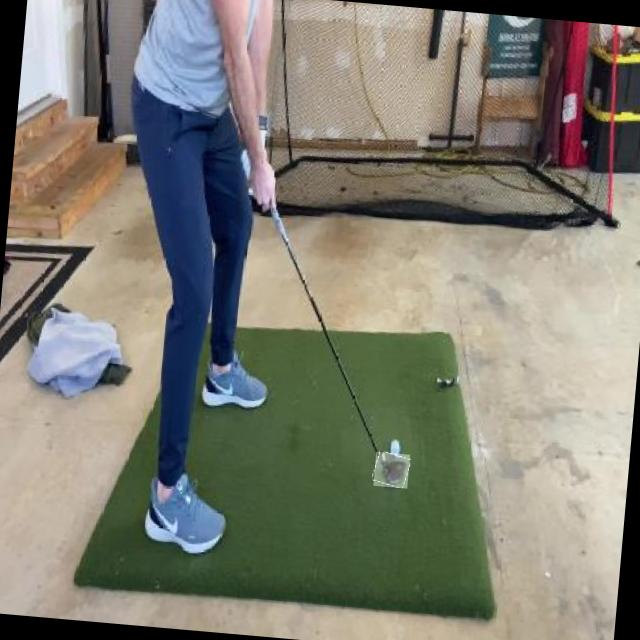club head: (372, 452, 410, 488)
